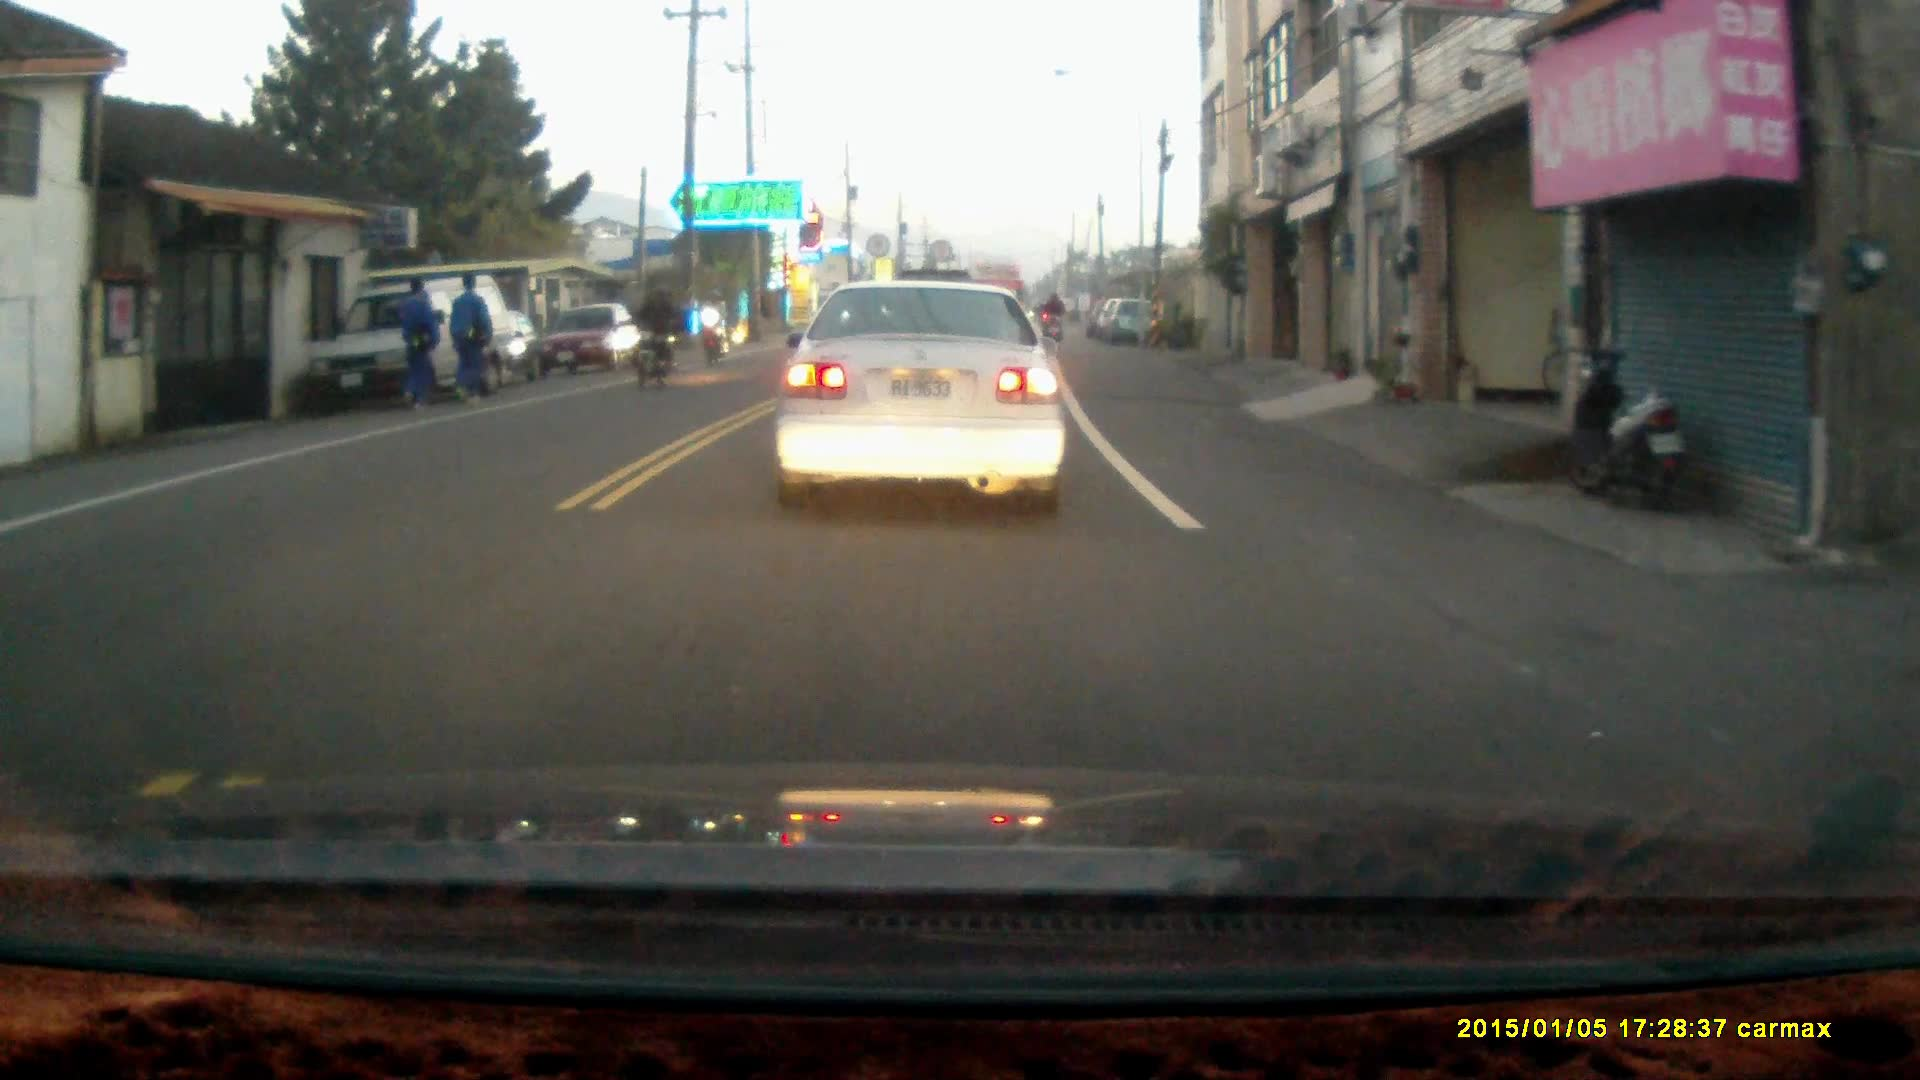pedestrian: (441, 268, 492, 407), (389, 277, 437, 411)
rider: (627, 282, 685, 386), (697, 286, 729, 365)
vehicle: (771, 273, 1070, 513), (308, 276, 528, 406), (532, 302, 647, 374)
